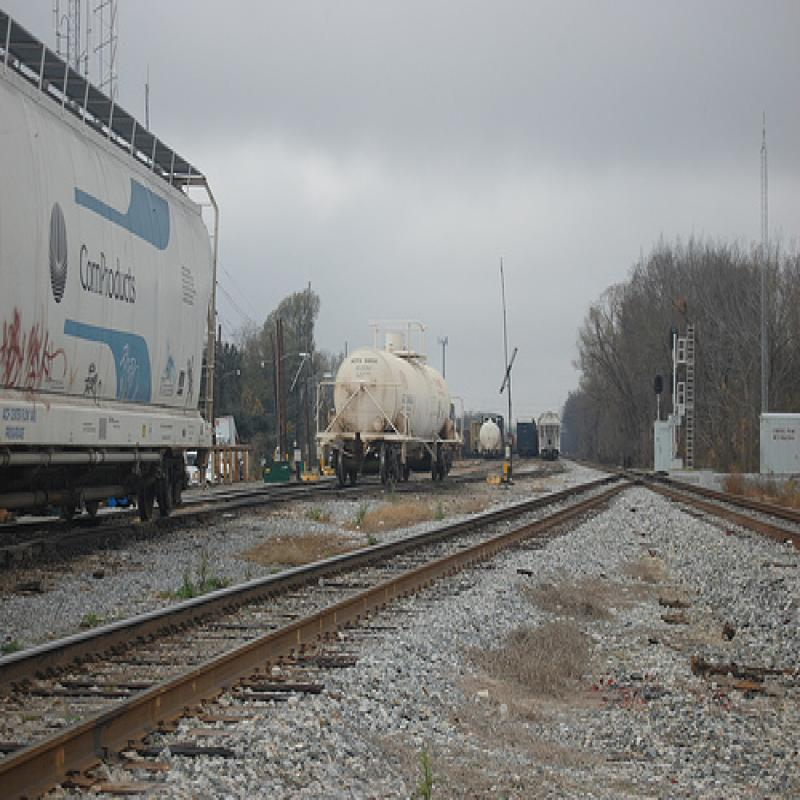train: (1, 13, 219, 525), (310, 340, 462, 481)
